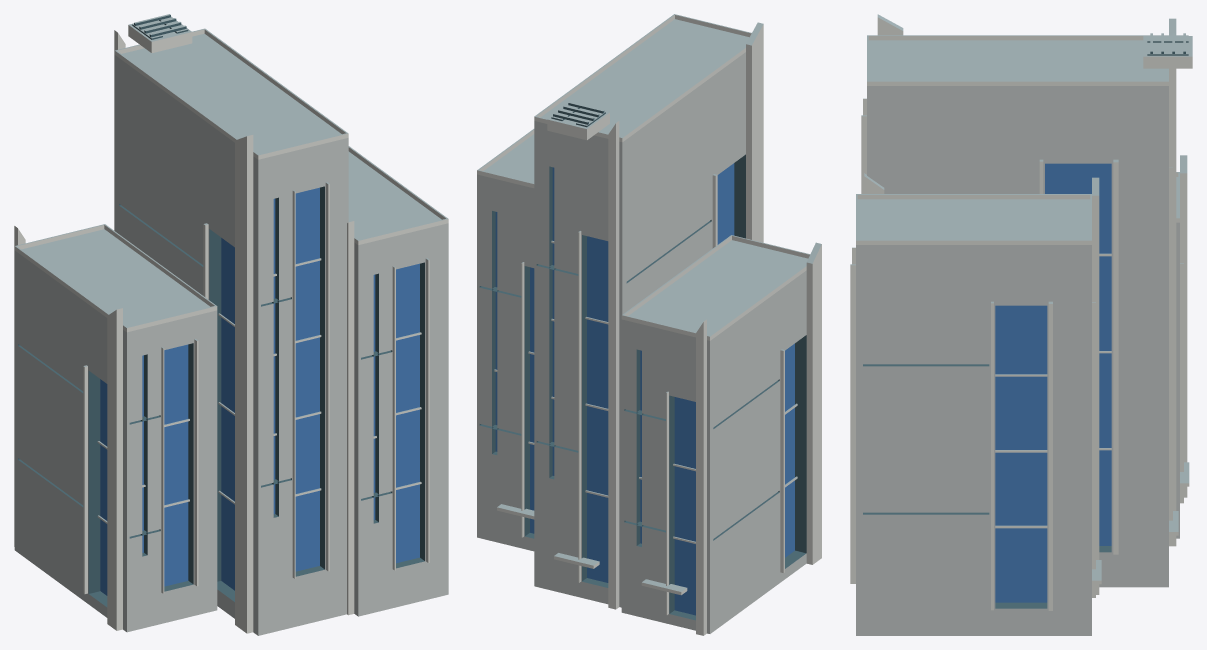
Rendered from 12_Faecherhaus.obj.
3 views of the same model, side by side, from view 1: azimuth 30°, elevation 25°; view 2: azimuth 150°, elevation 25°; view 3: azimuth 270°, elevation 25° (orthographic). The views are drawn at different scales.
Size of the model in its own units: 0.6118 by 1 by 0.5928.
